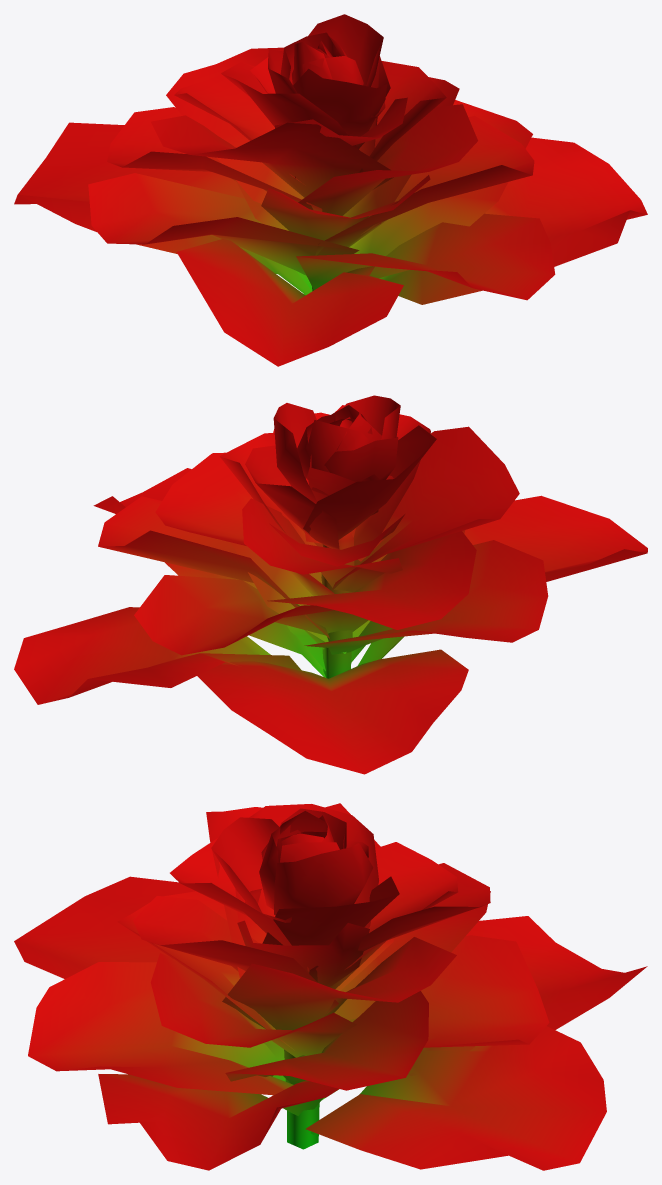
File: Purple Ornamental Kale_LOD3_Var5_ugdieawja.fbx
3 renders of one model, top to bottom at view 1: azimuth 30°, elevation 25°; view 2: azimuth 150°, elevation 25°; view 3: azimuth 270°, elevation 25°, orthographic. The views are drawn at different scales.
Parts seen in each view (by area): view 1: _3d80_Var5_LOD3; view 2: _3d80_Var5_LOD3; view 3: _3d80_Var5_LOD3.
Part boxes in pixels (<box>): _3d80_Var5_LOD3: <box>14,14,647,366</box>; _3d80_Var5_LOD3: <box>14,395,647,774</box>; _3d80_Var5_LOD3: <box>14,803,647,1170</box>.
Size of the model in its own units: 41.81 by 25.15 by 45.12.
